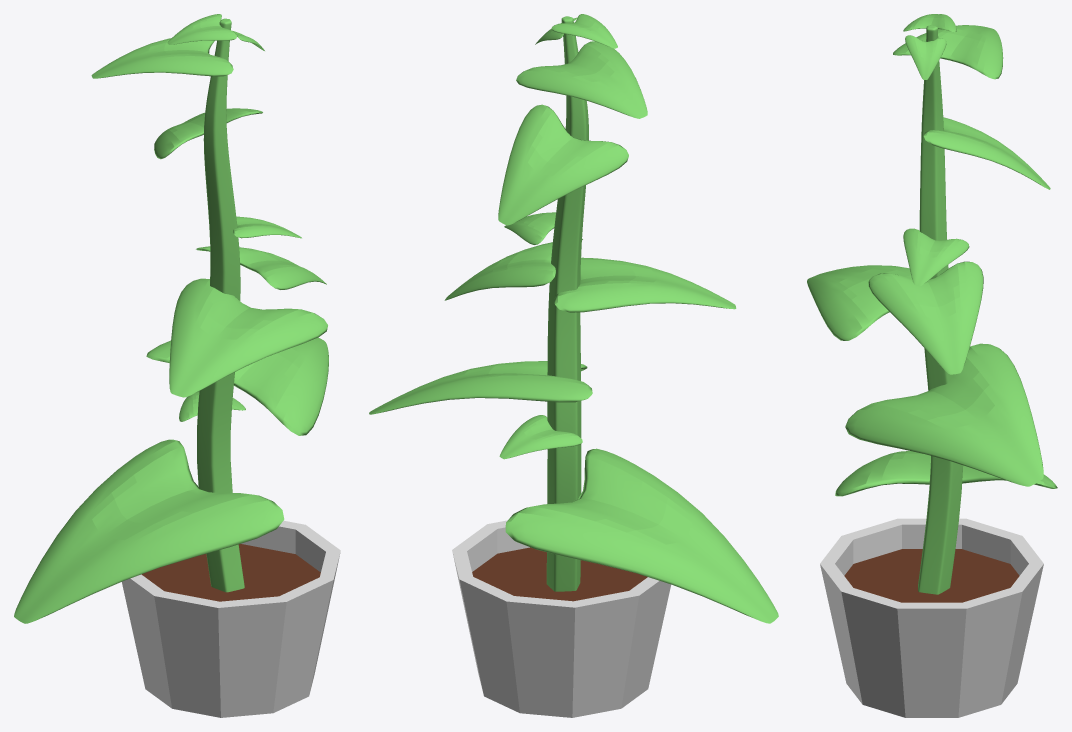
The model's file is Foliage_Plant.fbx.
The picture shows the model from 3 angles, left to right: view 1: azimuth 30°, elevation 25°; view 2: azimuth 150°, elevation 25°; view 3: azimuth 270°, elevation 25°; orthographic projection.
Parts seen in each view (by area): view 1: Cylinder, Cube.014, Cylinder.001, Cube.015, Cube.023, Cube.016, Cube.021, Cube.019, Cube.020, Cube.017, Cube.018; view 2: Cylinder, Cube.014, Cylinder.001, Cube.019, Cube.015, Cube.023, Cube.016, Cube.021, Cube.018, Cube.020, Cube.017; view 3: Cylinder, Cube.023, Cylinder.001, Cube.021, Cube.015, Cube.014, Cube.016, Cube.019, Cube.017, Cube.022, Cube.020.
Part boxes in pixels (left/top/right/bottom): Cylinder: left=122, top=520, right=340, bottom=717; Cube.014: left=14, top=439, right=284, bottom=623; Cylinder.001: left=197, top=18, right=244, bottom=592; Cube.015: left=169, top=278, right=327, bottom=397; Cube.023: left=146, top=337, right=328, bottom=435; Cube.016: left=91, top=38, right=233, bottom=78; Cube.021: left=196, top=246, right=326, bottom=289; Cube.019: left=154, top=108, right=262, bottom=159; Cube.020: left=167, top=14, right=236, bottom=44; Cube.017: left=233, top=216, right=301, bottom=238; Cube.018: left=179, top=391, right=245, bottom=421; Cylinder: left=452, top=520, right=671, bottom=717; Cube.014: left=505, top=448, right=778, bottom=623; Cylinder.001: left=546, top=16, right=588, bottom=591; Cube.019: left=498, top=104, right=628, bottom=225; Cube.015: left=554, top=257, right=736, bottom=312; Cube.023: left=369, top=361, right=592, bottom=414; Cube.016: left=516, top=41, right=647, bottom=118; Cube.021: left=444, top=238, right=582, bottom=300; Cube.018: left=499, top=415, right=582, bottom=459; Cube.020: left=551, top=14, right=617, bottom=48; Cube.017: left=504, top=212, right=555, bottom=244; Cylinder: left=820, top=518, right=1043, bottom=717; Cube.023: left=845, top=343, right=1043, bottom=486; Cylinder.001: left=918, top=25, right=963, bottom=594; Cube.021: left=868, top=261, right=983, bottom=374; Cube.015: left=807, top=265, right=911, bottom=340; Cube.014: left=835, top=451, right=1057, bottom=496; Cube.016: left=893, top=25, right=1003, bottom=79; Cube.019: left=923, top=117, right=1050, bottom=189; Cube.017: left=903, top=228, right=969, bottom=286; Cube.022: left=905, top=35, right=946, bottom=79; Cube.020: left=903, top=14, right=956, bottom=32.
Bounding box in the file's own units: 123 × 220 × 76.23.
